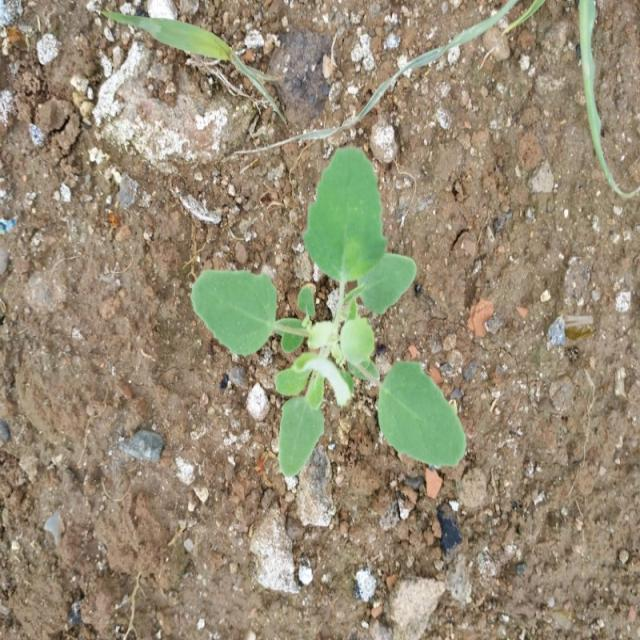ca: (190, 148, 468, 475)
